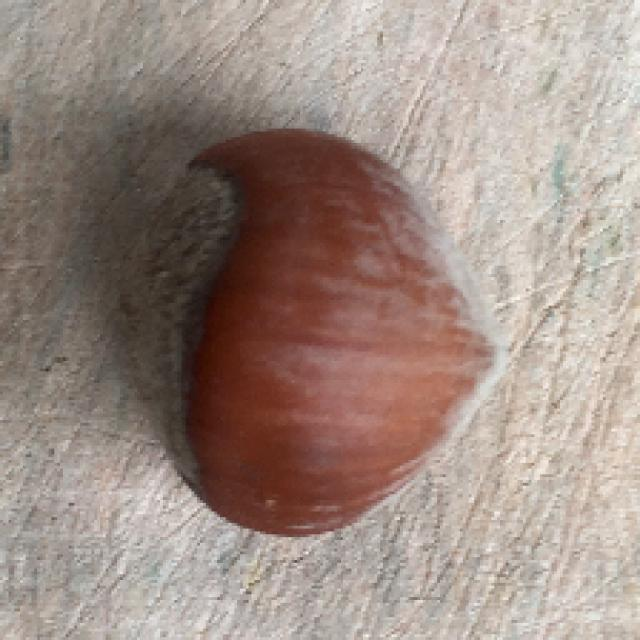QualityHazelnut: (107, 131, 507, 540)
